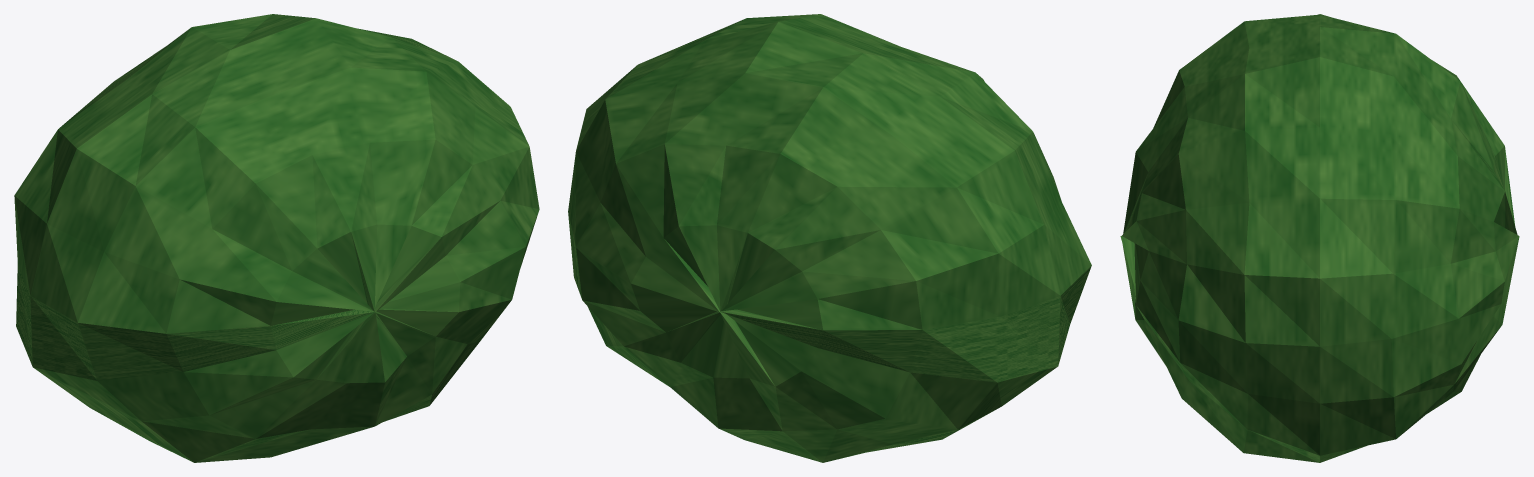
File: SM_ShShrub.obj
3 renders of one model, left to right at view 1: azimuth 30°, elevation 25°; view 2: azimuth 150°, elevation 25°; view 3: azimuth 270°, elevation 25°, orthographic. The views are drawn at different scales.
Visible parts, largest first — view 1: SM_ShShrub; view 2: SM_ShShrub; view 3: SM_ShShrub.
Boxes of the visible parts, x1=… form: SM_ShShrub: x1=14, y1=14, x2=539, y2=462; SM_ShShrub: x1=568, y1=14, x2=1091, y2=462; SM_ShShrub: x1=1120, y1=14, x2=1519, y2=462.
Size of the model in its own units: 94.05 by 77.65 by 70.51.
1 material, 1 textured.
